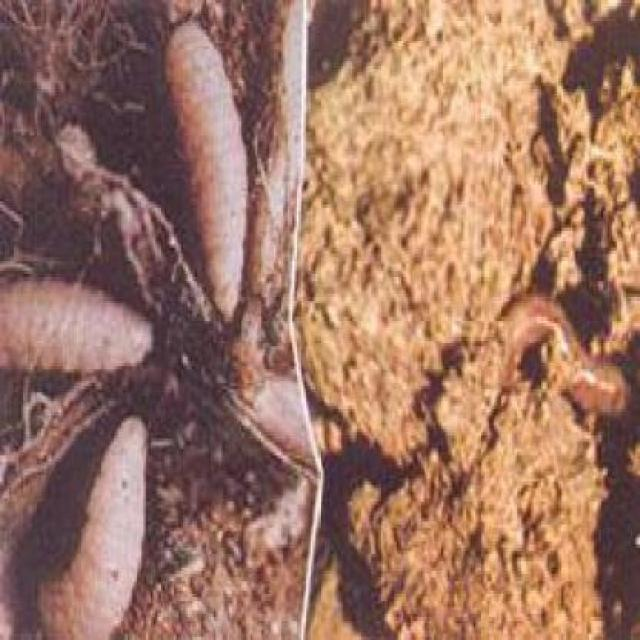whorl-maggot: (29, 411, 165, 637), (160, 20, 257, 327), (0, 272, 167, 379)
